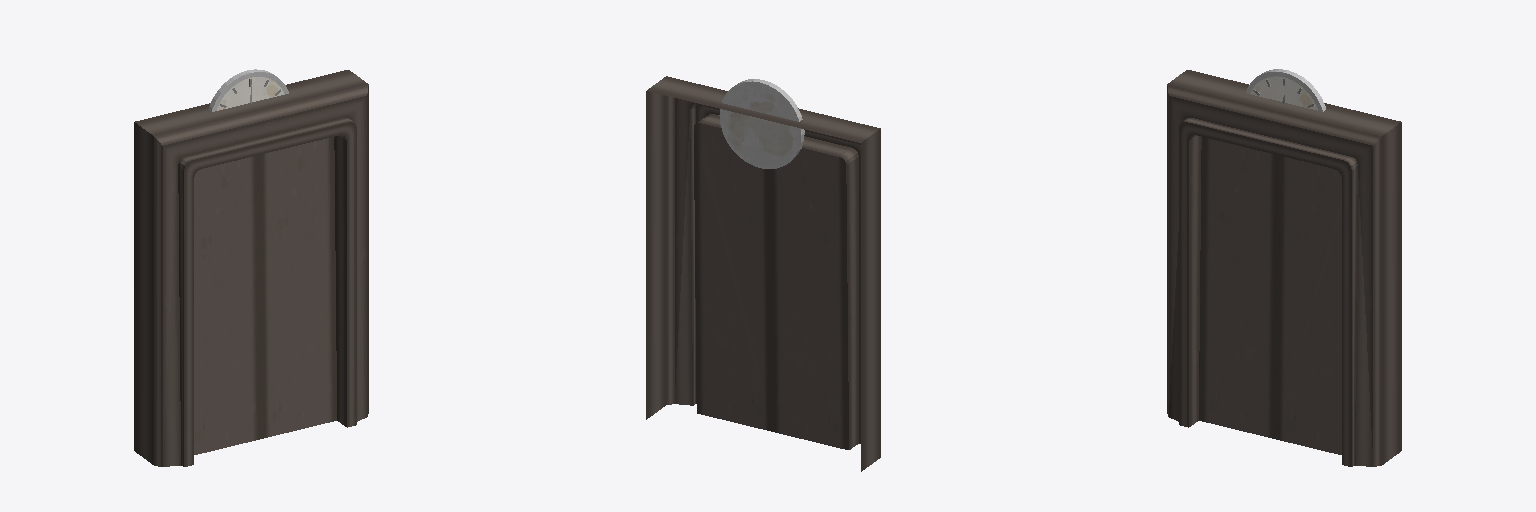
3 views of the same model, side by side, from view 1: azimuth 30°, elevation 25°; view 2: azimuth 150°, elevation 25°; view 3: azimuth 330°, elevation 25° (orthographic).
Visible parts, largest first — view 1: Lift_LiftMesh, ClockBack_ClockBackMesh; view 2: Lift_LiftMesh, ClockBack_ClockBackMesh; view 3: Lift_LiftMesh, ClockBack_ClockBackMesh.
Boxes of the visible parts, x1=… form: Lift_LiftMesh: x1=134, y1=70, x2=368, y2=466; ClockBack_ClockBackMesh: x1=208, y1=69, x2=288, y2=111; Lift_LiftMesh: x1=646, y1=76, x2=880, y2=471; ClockBack_ClockBackMesh: x1=719, y1=79, x2=804, y2=168; Lift_LiftMesh: x1=1167, y1=70, x2=1401, y2=466; ClockBack_ClockBackMesh: x1=1246, y1=69, x2=1325, y2=111.
Bounding box in the file's own units: 2.1 × 3.35 × 0.493.
3 materials, 3 textured.